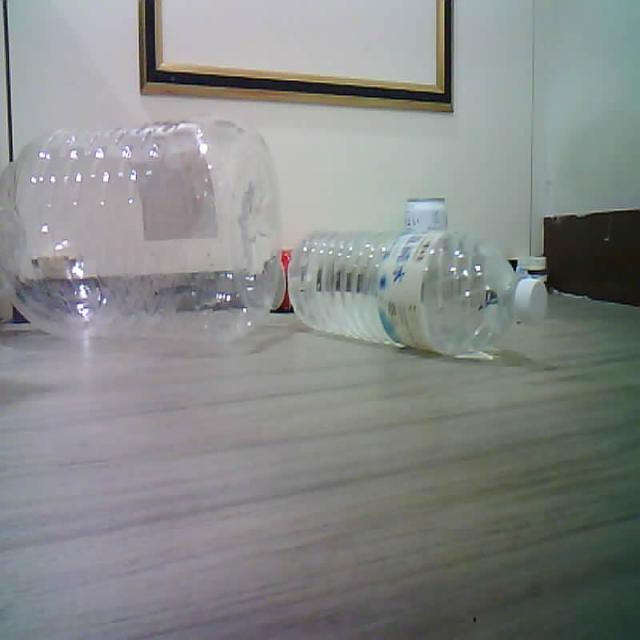bottle: (0, 116, 280, 350), (289, 231, 546, 356)
